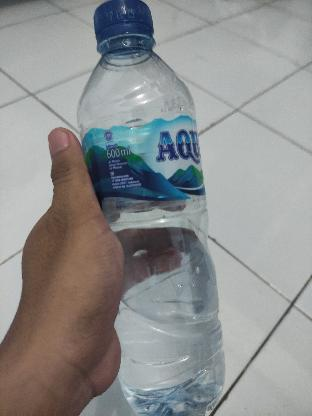Plastic Bottle: (70, 0, 232, 416)
